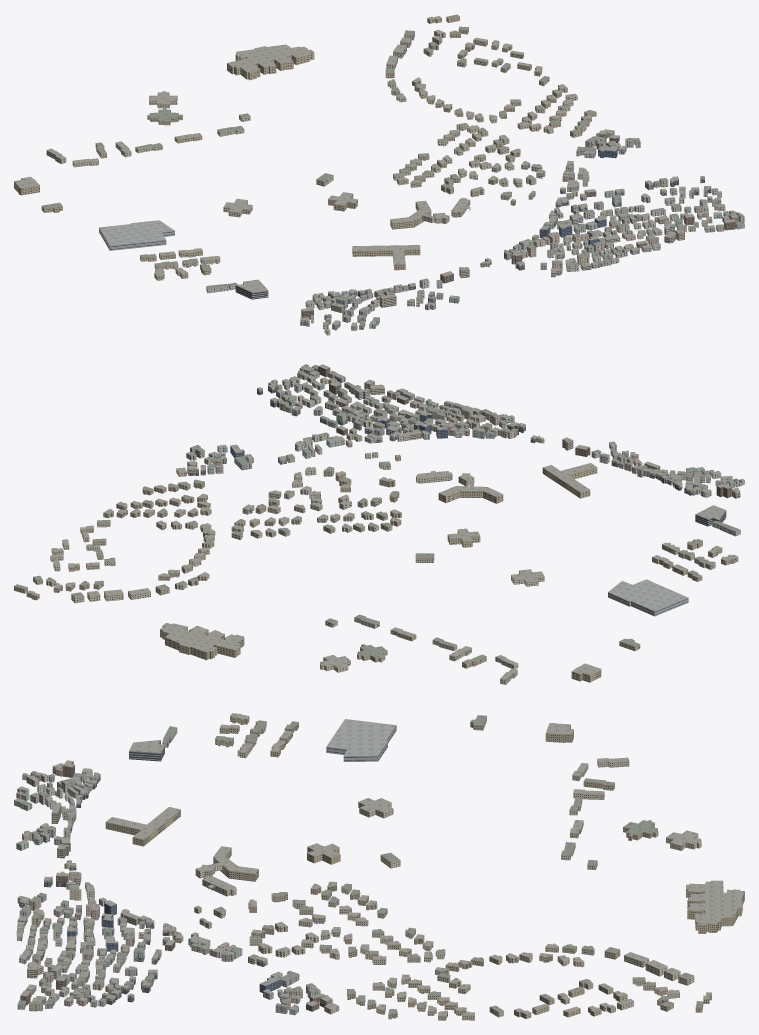
The model's file is ArahaTown_Block_E02048_S01024.gltf.
3 renders of one model, top to bottom at view 1: azimuth 30°, elevation 25°; view 2: azimuth 150°, elevation 25°; view 3: azimuth 270°, elevation 25°, orthographic. The views are drawn at different scales.
Parts seen in each view (by area): view 1: ArahaTown_Block_E02048_S01024; view 2: ArahaTown_Block_E02048_S01024; view 3: ArahaTown_Block_E02048_S01024.
Part boxes in pixels (x1,y1,x2,y2): ArahaTown_Block_E02048_S01024: [14, 14, 744, 335]; ArahaTown_Block_E02048_S01024: [14, 364, 744, 684]; ArahaTown_Block_E02048_S01024: [14, 713, 744, 1020].
Bounding box in the file's own units: 1049 × 47.49 × 1081.
Materials: 19 (18 with a texture image).
